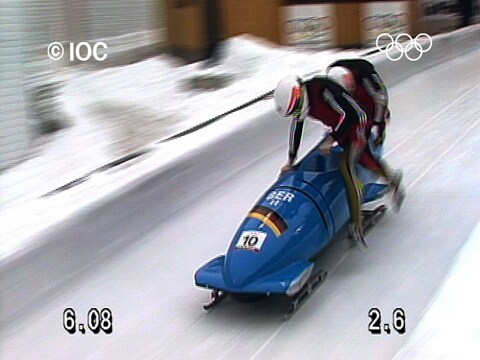Bobsleigh: (193, 140, 391, 301)
